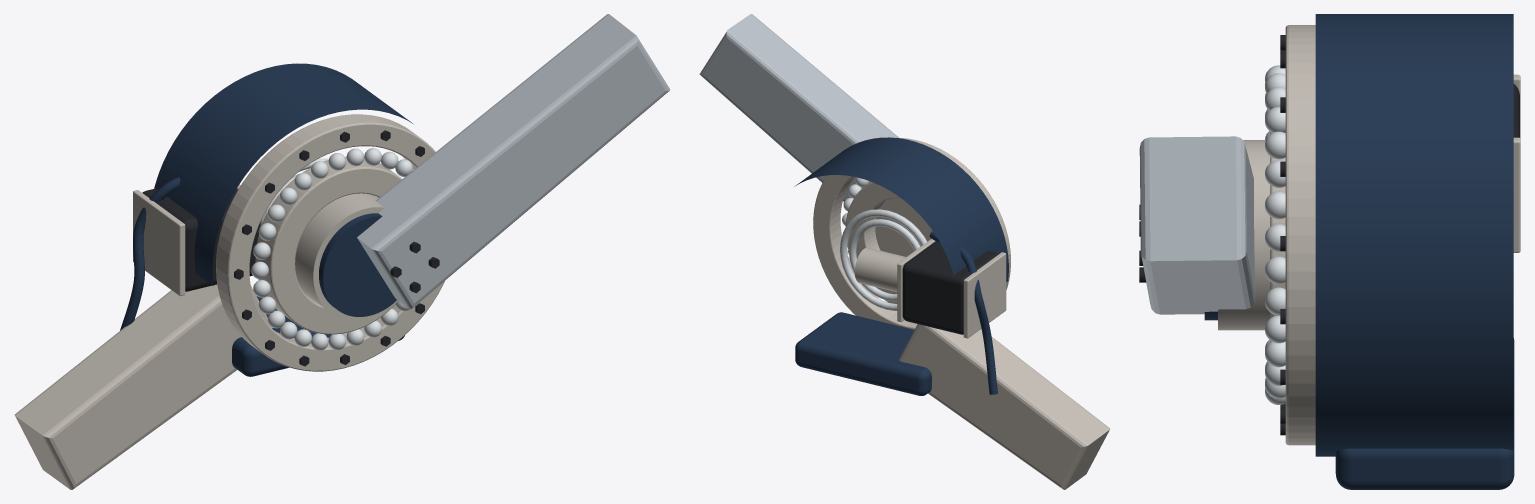
The model's file is robots-50.glb.
3 views of the same model, side by side, from view 1: azimuth 30°, elevation 25°; view 2: azimuth 150°, elevation 25°; view 3: azimuth 270°, elevation 25° (orthographic). The views are drawn at different scales.
Visible parts, largest first — view 1: right, bearing, left, case, flange, balls, motor, wiring, screws; view 2: case, left, right, motor, bearing, drive, flange, wiring; view 3: case, right, bearing, balls, flange, motor, screws.
Boxes of the visible parts, box(x1,y1,x2,y2) form: right: box(357, 14, 670, 309); bearing: box(216, 114, 444, 371); left: box(14, 284, 272, 489); case: box(154, 63, 412, 376); flange: box(295, 193, 396, 319); balls: box(251, 148, 412, 350); motor: box(133, 184, 266, 296); wiring: box(120, 177, 180, 330); screws: box(234, 130, 424, 366); case: box(794, 137, 1008, 395); left: box(899, 324, 1110, 489); right: box(699, 14, 898, 201); motor: box(897, 239, 1006, 338); bearing: box(813, 137, 1010, 329); drive: box(840, 209, 927, 310); flange: box(875, 198, 932, 256); wiring: box(929, 231, 997, 394); case: box(1315, 14, 1514, 489); right: box(1139, 136, 1255, 314); bearing: box(1270, 25, 1315, 445); balls: box(1265, 65, 1285, 404); flange: box(1204, 140, 1270, 330); motor: box(1513, 74, 1520, 252); screws: box(1280, 35, 1285, 435).
Bounding box in the file's own units: 2.58 × 1.75 × 0.982.
